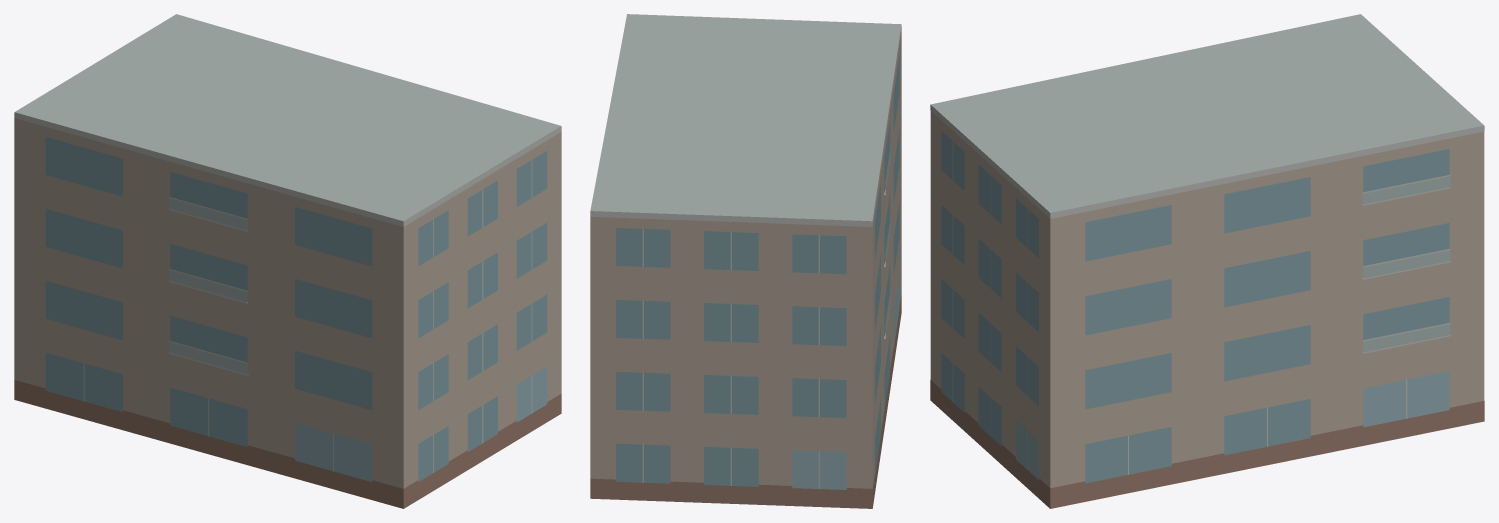
Rendered from survey-upis-32629323.glb.
3 views of the same model, side by side, from view 1: azimuth 30°, elevation 25°; view 2: azimuth 150°, elevation 25°; view 3: azimuth 270°, elevation 25° (orthographic). The views are drawn at different scales.
Visible parts, largest first — view 1: survey-upis-32629323.tmp; view 2: survey-upis-32629323.tmp; view 3: survey-upis-32629323.tmp.
Boxes of the visible parts, <box> form: survey-upis-32629323.tmp: <box>14,14,561,508</box>; survey-upis-32629323.tmp: <box>590,14,901,508</box>; survey-upis-32629323.tmp: <box>930,14,1484,508</box>.
Bounding box in the file's own units: 17.6 × 12.2 × 20.71.
